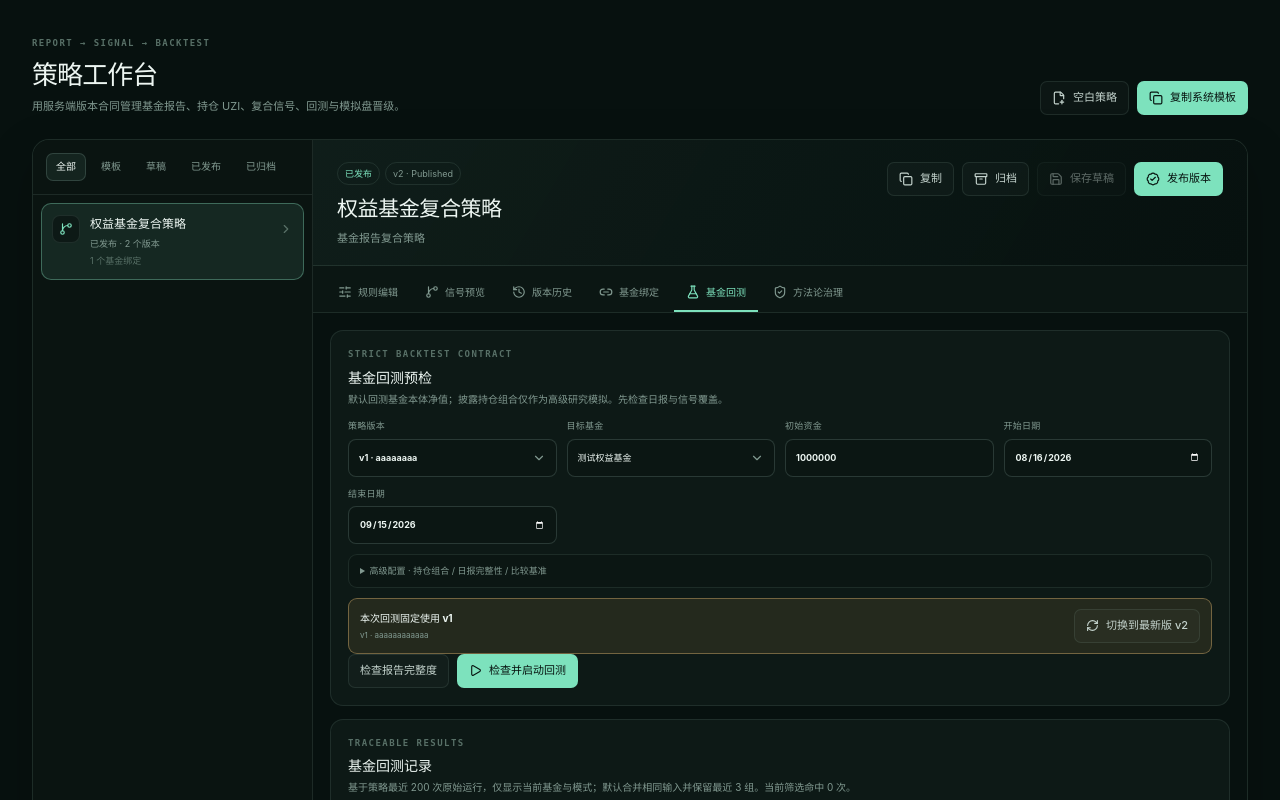
Test case: Strategies › makes an older selected version explicit and offers a one-click switch to latest
Expected: the text "本次回测固定使用 v1" is shown, 360,611 -> 453,626
Click the button "切换到最新版 v2" at [1137, 626], box 1074,609 -> 1200,643
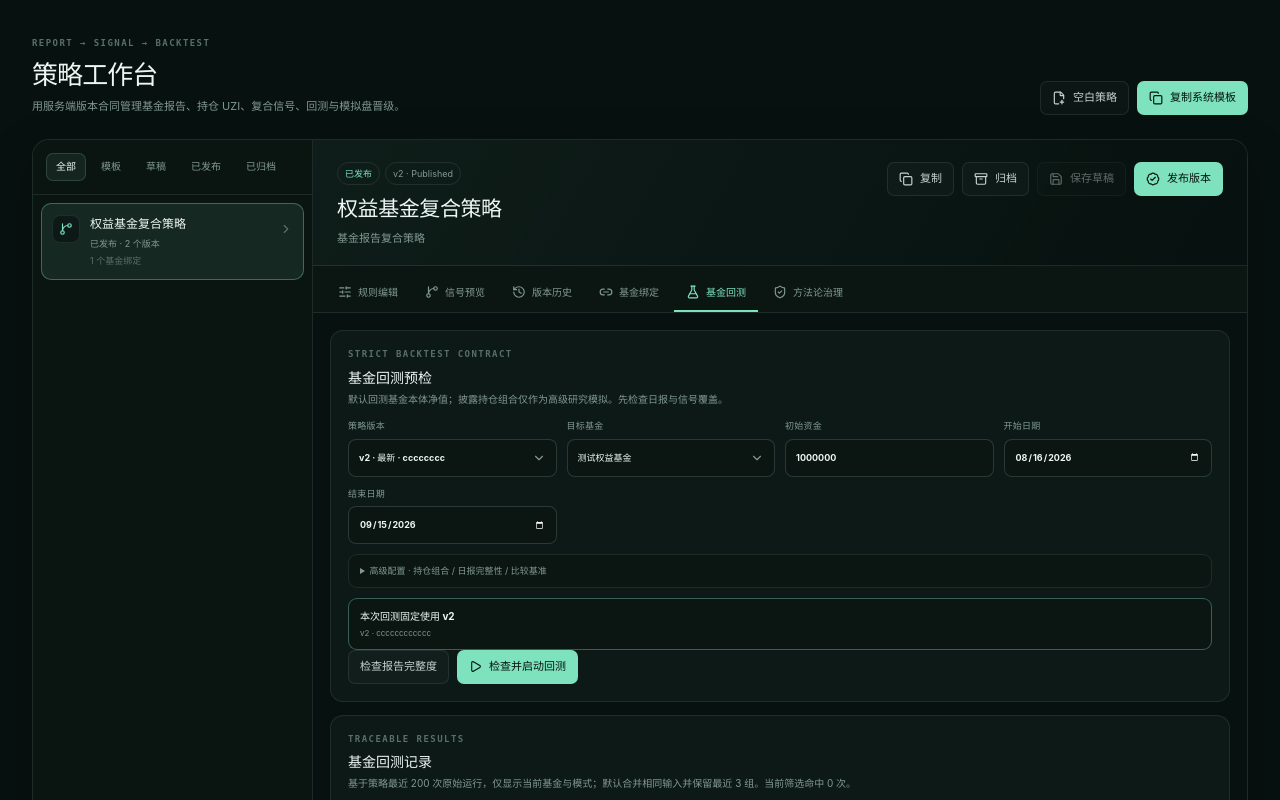
Expected: the dropdown named "策略版本" holds "v2", 348,439 -> 556,477
Expected: the text "本次回测固定使用 v2" is shown, 360,609 -> 455,624
